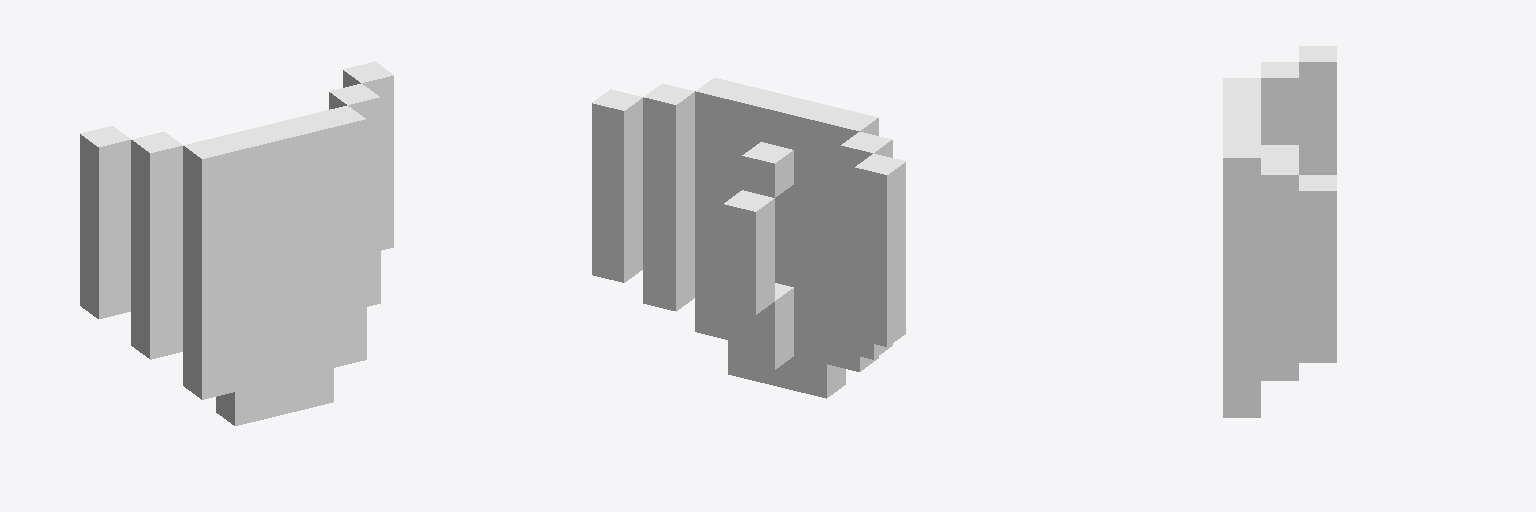
File: player_shield.obj
3 renders of one model, left to right at view 1: azimuth 30°, elevation 25°; view 2: azimuth 150°, elevation 25°; view 3: azimuth 270°, elevation 25°, orthographic.
Size of the model in its own units: 9 by 8 by 3.